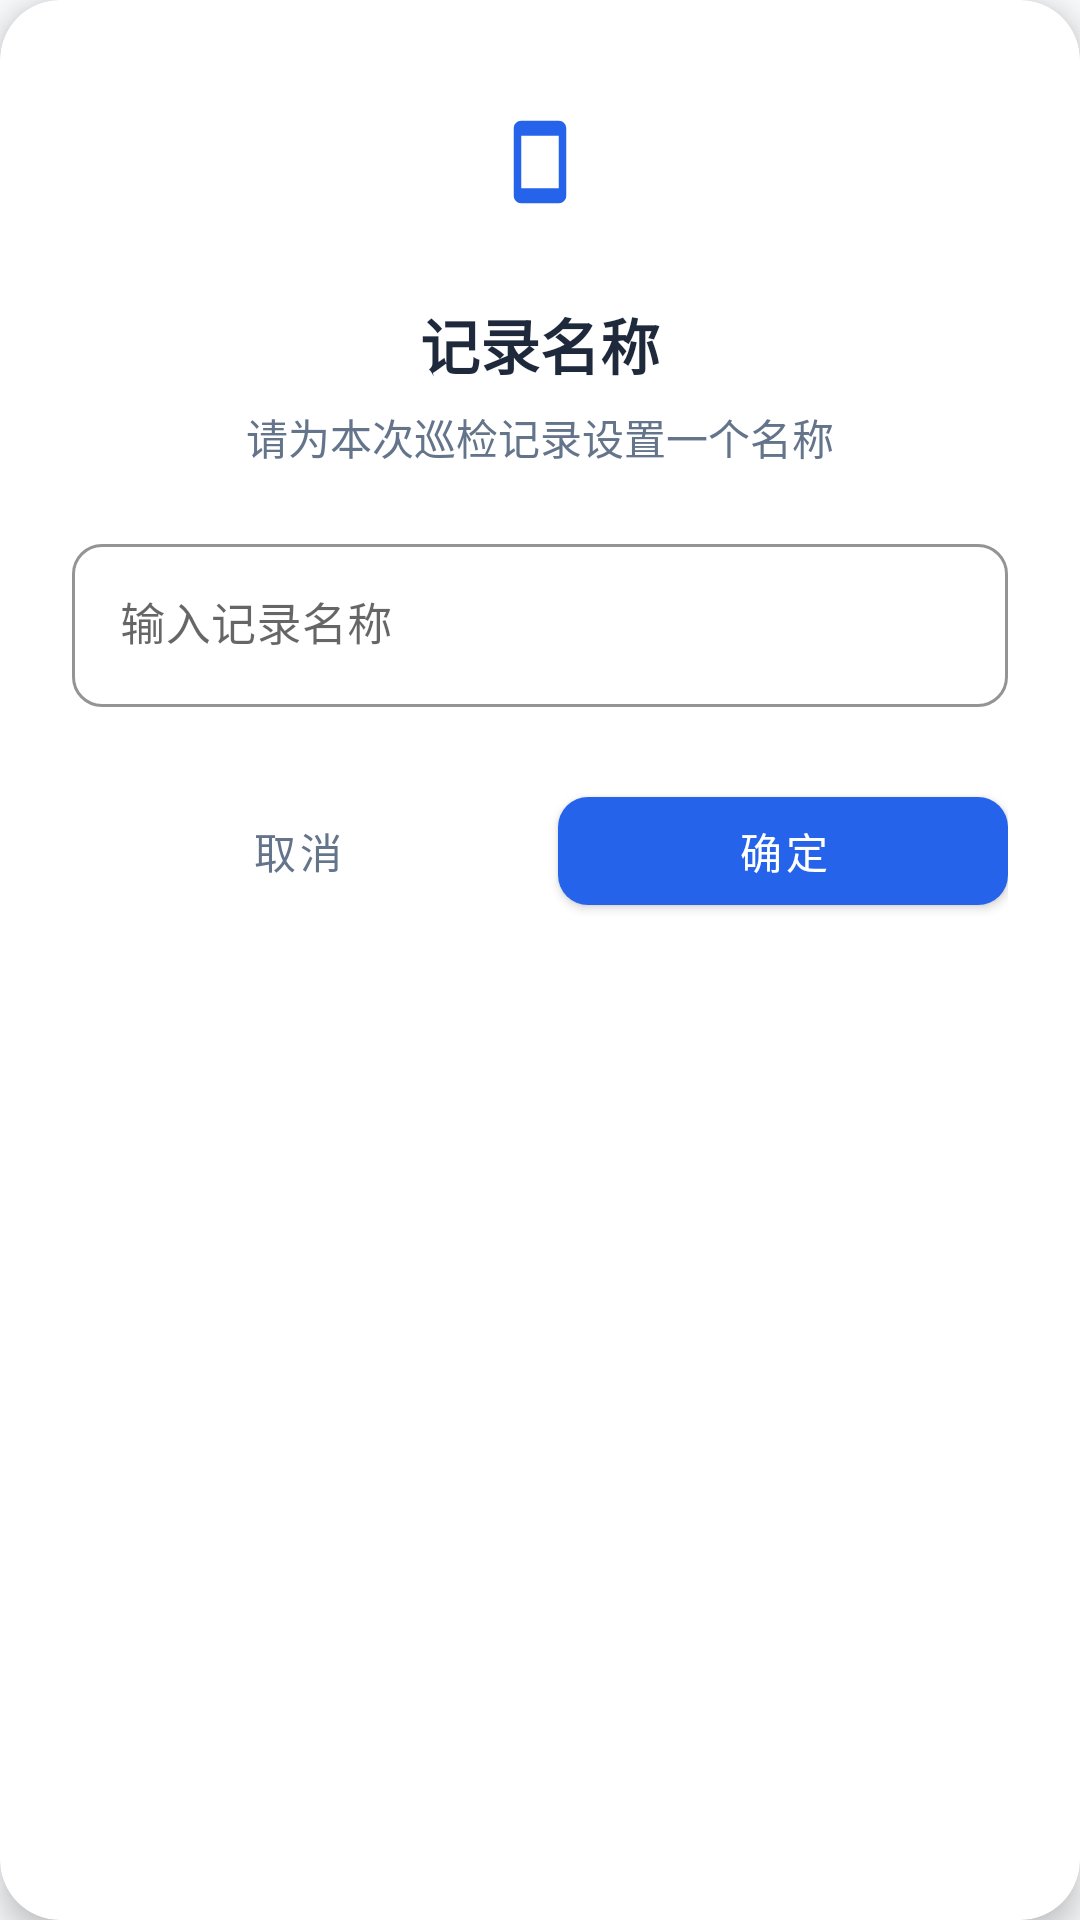

Where to tap for icons on this 1080w x 1920h app screen, as [x,y]:
device model: [540,162]
